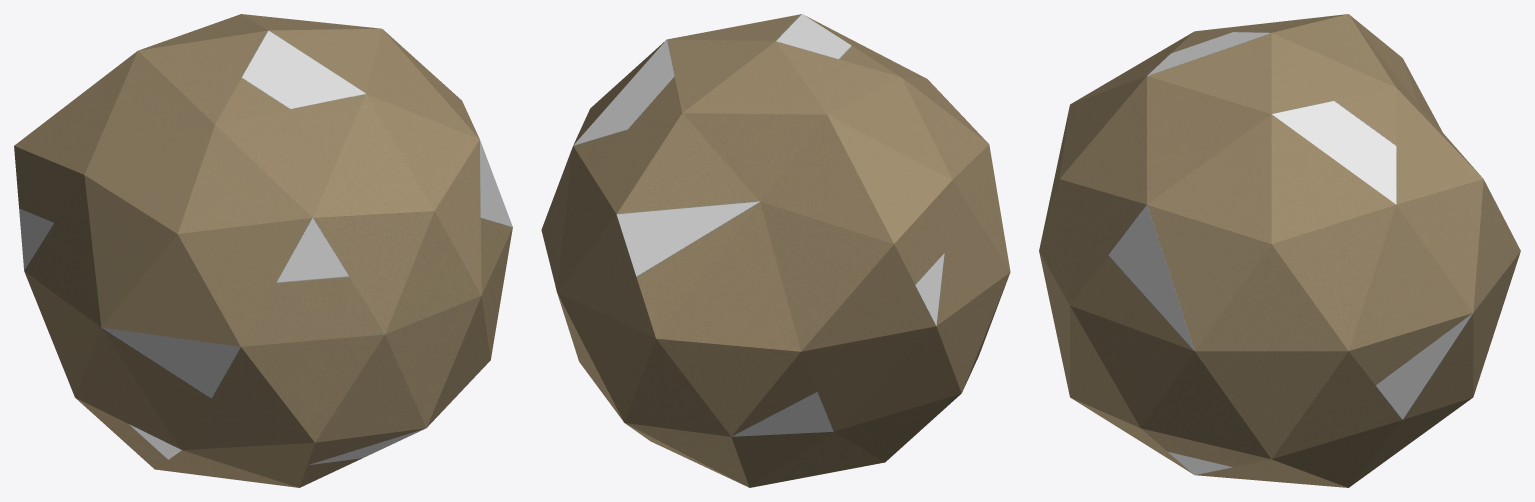
The model's file is splattersphere6.dae.
3 views of the same model, side by side, from view 1: azimuth 30°, elevation 25°; view 2: azimuth 150°, elevation 25°; view 3: azimuth 270°, elevation 25° (orthographic). The views are drawn at different scales.
Visible parts, largest first — view 1: splatter; view 2: splatter; view 3: splatter.
Part boxes in pixels (bbox=[...]): splatter: bbox=[14, 14, 512, 487]; splatter: bbox=[541, 14, 1010, 487]; splatter: bbox=[1039, 14, 1520, 487].
Size of the model in its own units: 0.5001 by 0.5083 by 0.504.
Materials: 2 (1 with a texture image).
